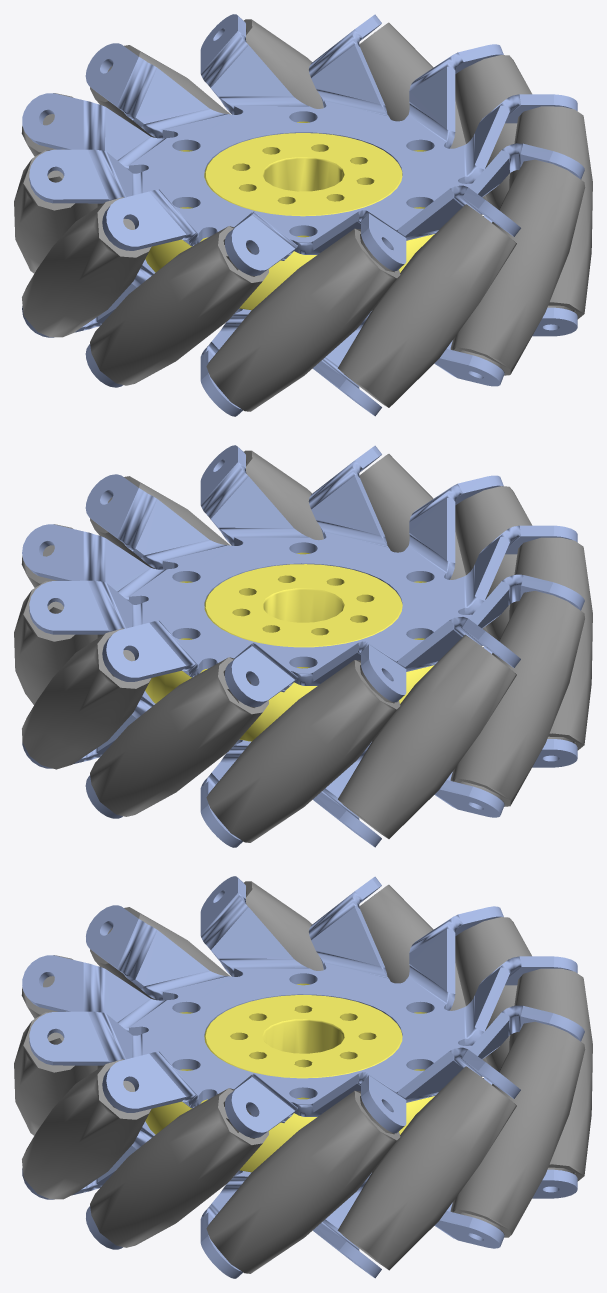
Rendered from mecanum_left_wheel.dae.
The picture shows the model from 3 angles, top to bottom: view 1: azimuth 30°, elevation 25°; view 2: azimuth 150°, elevation 25°; view 3: azimuth 270°, elevation 25°; orthographic projection.
Visible parts, largest first — view 1: Mecanum Wheel Left; view 2: Mecanum Wheel Left; view 3: Mecanum Wheel Left.
Boxes of the visible parts, x1,y1,x2,y2 form: Mecanum Wheel Left: (14,14,592,416); Mecanum Wheel Left: (14,445,592,847); Mecanum Wheel Left: (14,876,592,1278).
Size of the model in its own units: 0.1021 by 0.1021 by 0.0364.
